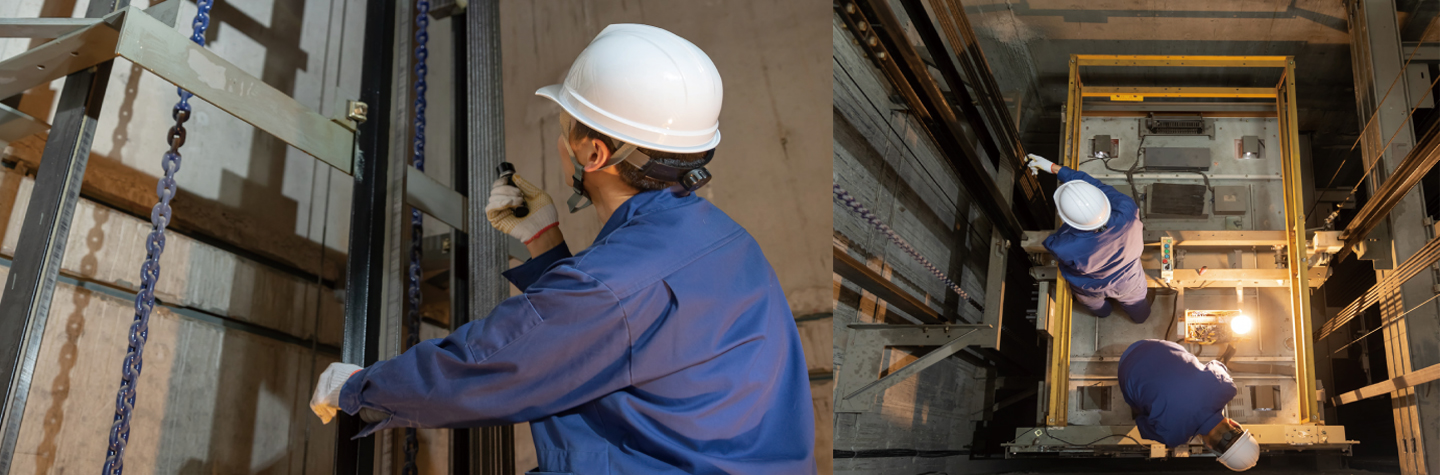safetyhat: (365, 10, 839, 475), (1073, 323, 1286, 475), (995, 149, 1178, 321)
